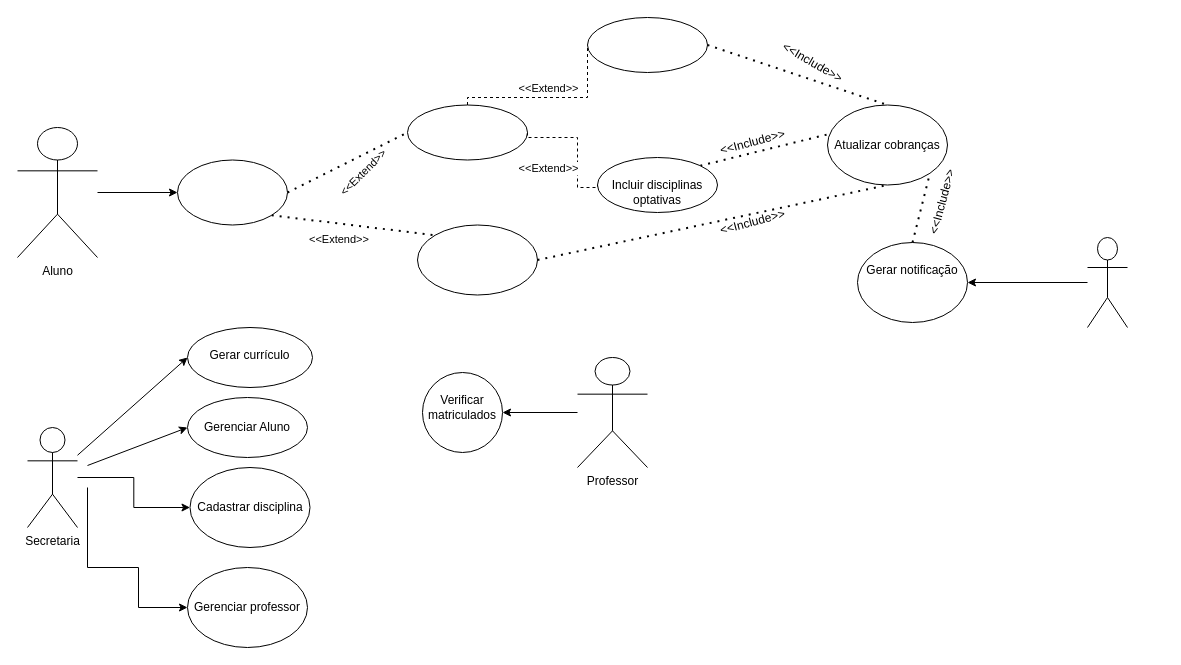
This 1181x665 diagram has some shape labels left out. Here are the shapes that lost their labels. From the top down, the centre of each, then its label:
At [647,44]: "Incluir disciplinas obrigatórias".
At [467,132]: "Incluir disciplinas".
At [232,192]: "Matricular".
At [477,259]: "Excluir disciplinas".
At [1107,282]: "Sistema de matricula".
